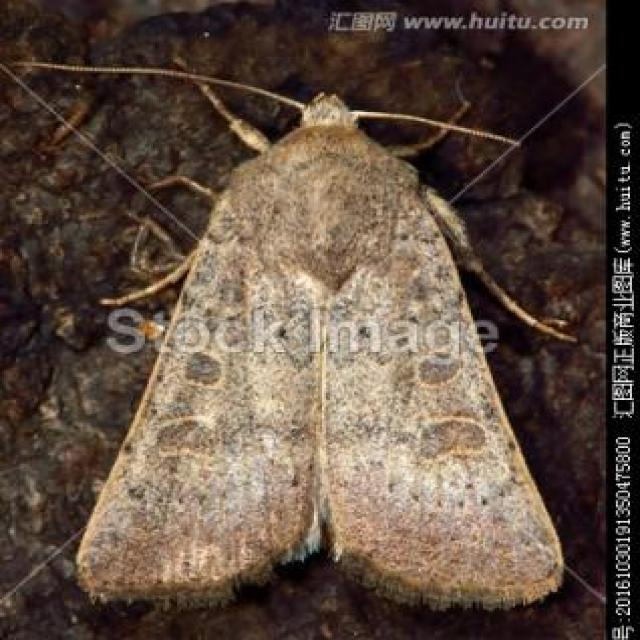armyworm: (71, 63, 595, 625)
